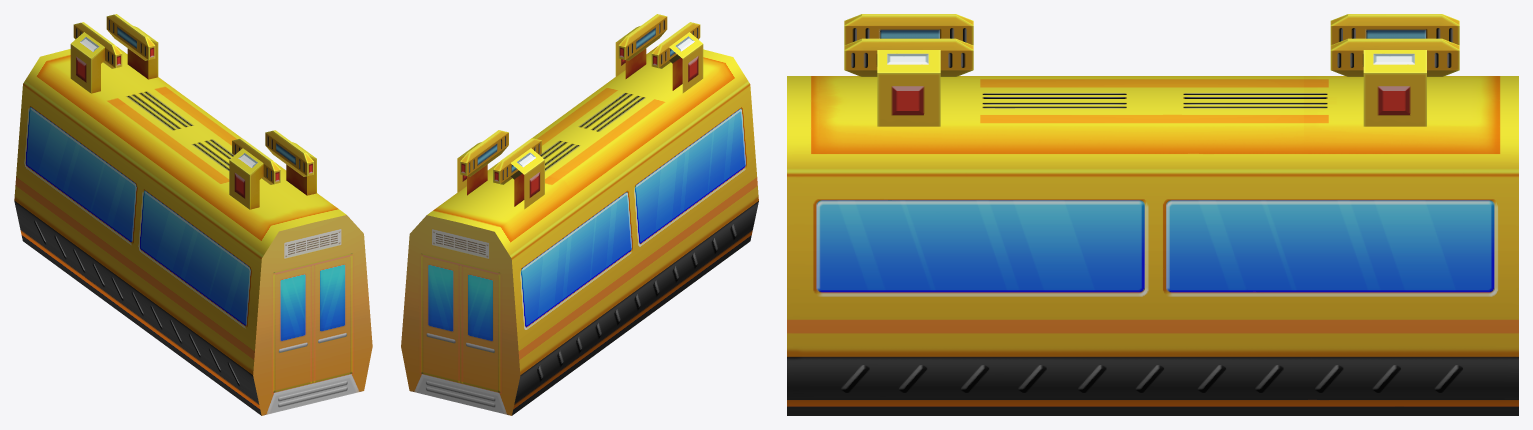
File: Monotrain_Body_Yellow.fbx
3 views of the same model, side by side, from view 1: azimuth 30°, elevation 25°; view 2: azimuth 150°, elevation 25°; view 3: azimuth 270°, elevation 25° (orthographic). The views are drawn at different scales.
Parts seen in each view (by area): view 1: Monotrain_Body_Yellow; view 2: Monotrain_Body_Yellow; view 3: Monotrain_Body_Yellow.
Boxes of the visible parts, x1,y1,x2,y2 form: Monotrain_Body_Yellow: [14, 14, 372, 415]; Monotrain_Body_Yellow: [401, 14, 758, 415]; Monotrain_Body_Yellow: [787, 14, 1518, 415].
Size of the model in its own units: 531 by 971 by 1838.
